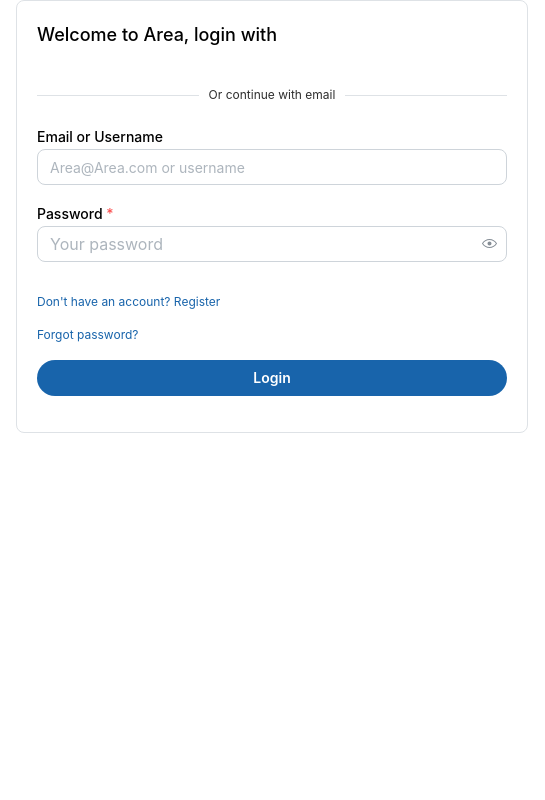
AuthenticationForm › switches back to login from register
This screenshot has width=545, height=800.
Click the button "Don't have an account? Register" at (129, 302), box [37, 294, 220, 311]
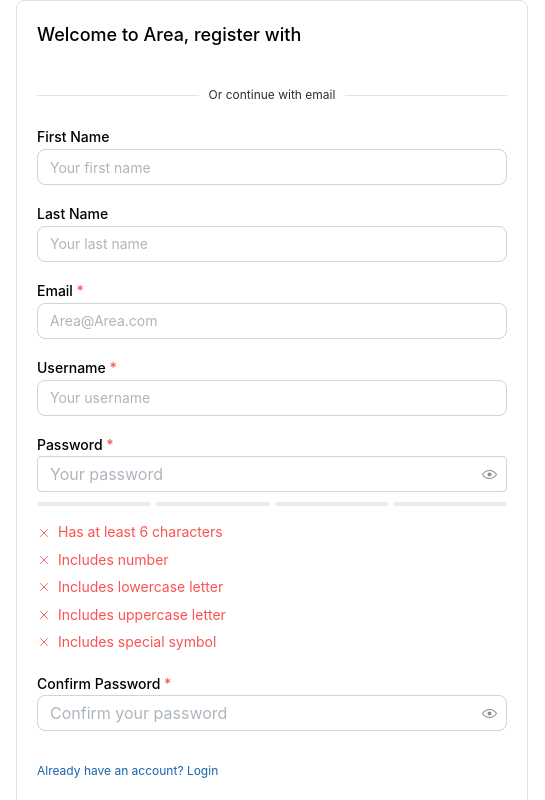
Expected: the text "Welcome to Area, register with" is shown, [37, 24, 301, 45]
Click the button "Already have an account? Login" at (128, 772), box [37, 763, 218, 780]
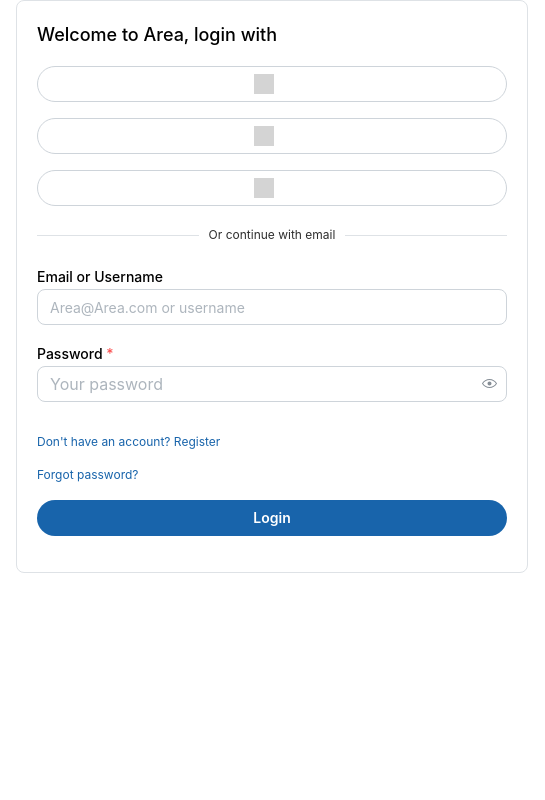
Expected: the text "Welcome to Area, login with" is shown, [37, 24, 277, 45]
